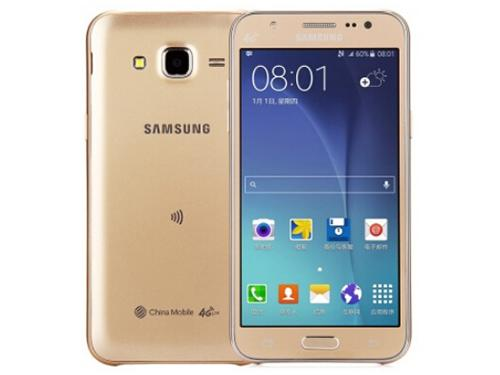phone: (227, 12, 416, 365), (89, 9, 240, 368)
